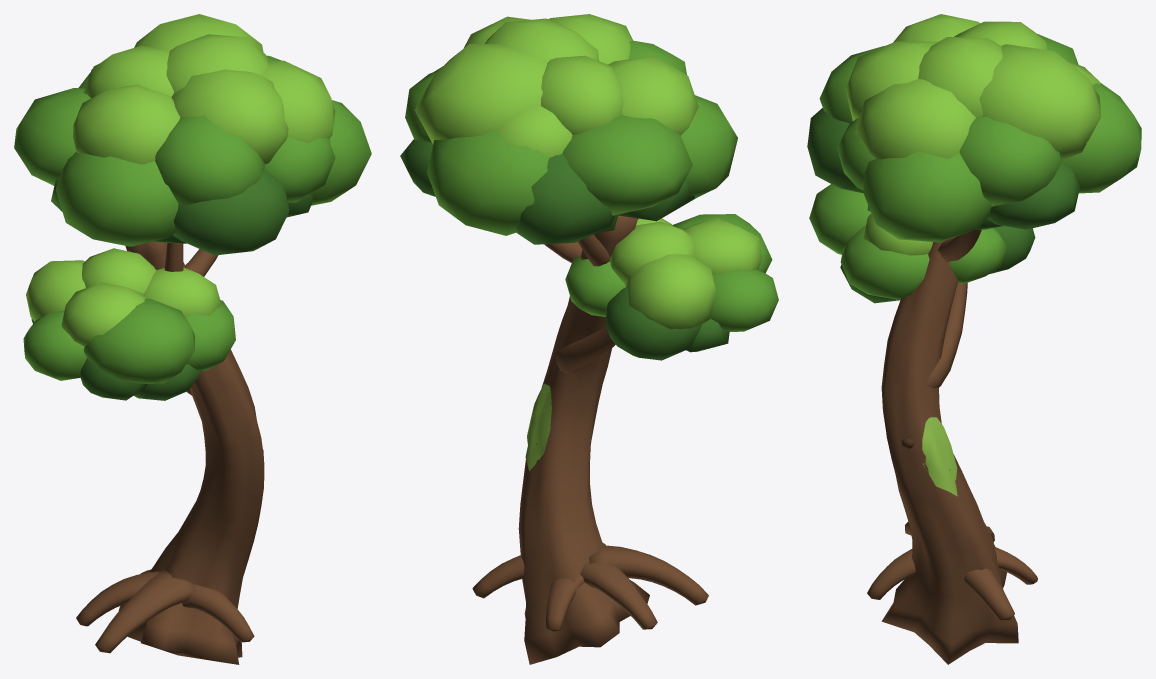
Rendered from arbol_torcido_v05_lod1.glb.
3 renders of one model, left to right at view 1: azimuth 30°, elevation 25°; view 2: azimuth 150°, elevation 25°; view 3: azimuth 270°, elevation 25°, orthographic.
Visible parts, largest first — view 1: Arbol_torcido_v05_LOD1; view 2: Arbol_torcido_v05_LOD1; view 3: Arbol_torcido_v05_LOD1.
Part boxes in pixels (x1=…): Arbol_torcido_v05_LOD1: x1=14, y1=14, x2=371, y2=664; Arbol_torcido_v05_LOD1: x1=400, y1=14, x2=778, y2=664; Arbol_torcido_v05_LOD1: x1=807, y1=14, x2=1141, y2=664.
Size of the model in its own units: 39.72 by 69.17 by 34.09.
